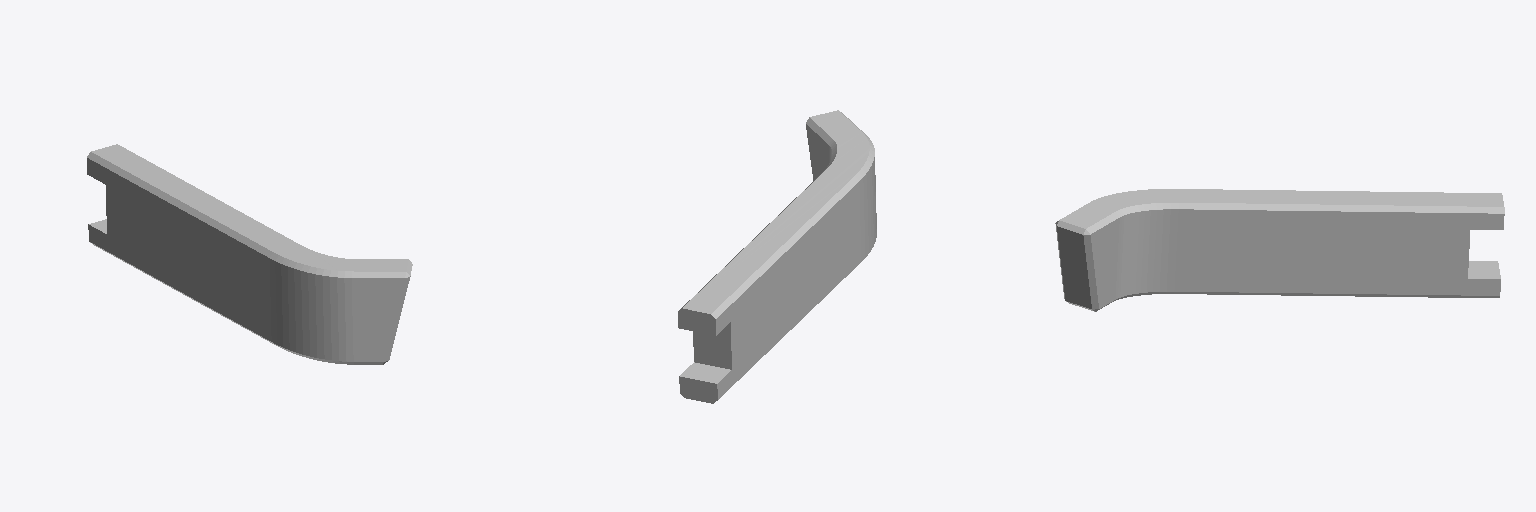
Rendered from original-6.obj.
The picture shows the model from 3 angles: view 1: azimuth 30°, elevation 25°; view 2: azimuth 150°, elevation 25°; view 3: azimuth 270°, elevation 25°; orthographic projection.
Visible parts, largest first — view 1: Group_6_1/Group_6/mesh31/mesh31-geometry#mesh31-geometry; view 2: Group_6_1/Group_6/mesh31/mesh31-geometry#mesh31-geometry; view 3: Group_6_1/Group_6/mesh31/mesh31-geometry#mesh31-geometry.
Boxes of the visible parts, box(x1,y1,x2,y2) form: Group_6_1/Group_6/mesh31/mesh31-geometry#mesh31-geometry: box(87, 144, 412, 364); Group_6_1/Group_6/mesh31/mesh31-geometry#mesh31-geometry: box(678, 110, 876, 403); Group_6_1/Group_6/mesh31/mesh31-geometry#mesh31-geometry: box(1055, 189, 1504, 311).
Bounding box in the file's own units: 0.0188 × 0.0169 × 0.0624.